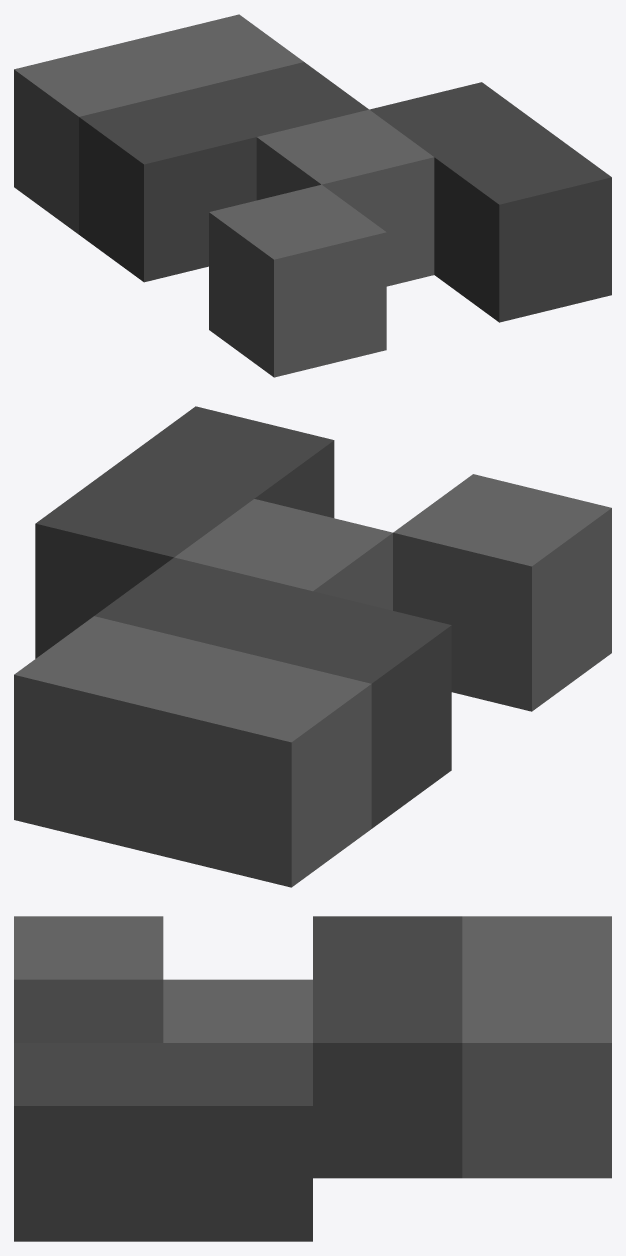
The model's file is Medieval Assets-193-Graveyard - Grave Stone - Extras.obj.
3 views of the same model, one above another, from view 1: azimuth 30°, elevation 25°; view 2: azimuth 150°, elevation 25°; view 3: azimuth 270°, elevation 25° (orthographic). The views are drawn at different scales.
Visible parts, largest first — view 1: Graveyard - Grave Stone - Extras; view 2: Graveyard - Grave Stone - Extras; view 3: Graveyard - Grave Stone - Extras.
Part boxes in pixels (x1=…): Graveyard - Grave Stone - Extras: x1=14, y1=14, x2=611, y2=377; Graveyard - Grave Stone - Extras: x1=14, y1=406, x2=611, y2=887; Graveyard - Grave Stone - Extras: x1=14, y1=916, x2=611, y2=1241.
Size of the model in its own units: 0.3 by 0.1 by 0.4.
1 material, 1 textured.
